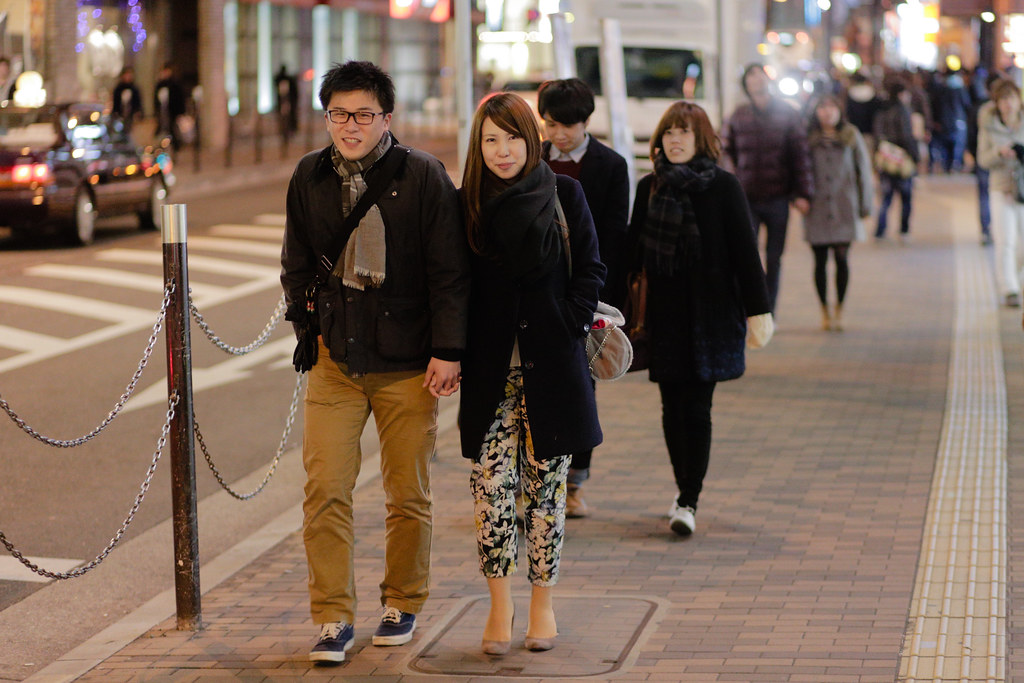person: (274, 60, 455, 669), (433, 87, 617, 660), (619, 89, 778, 562), (530, 72, 638, 284), (795, 92, 869, 345), (719, 55, 802, 244), (970, 77, 1024, 306), (876, 69, 922, 242)
